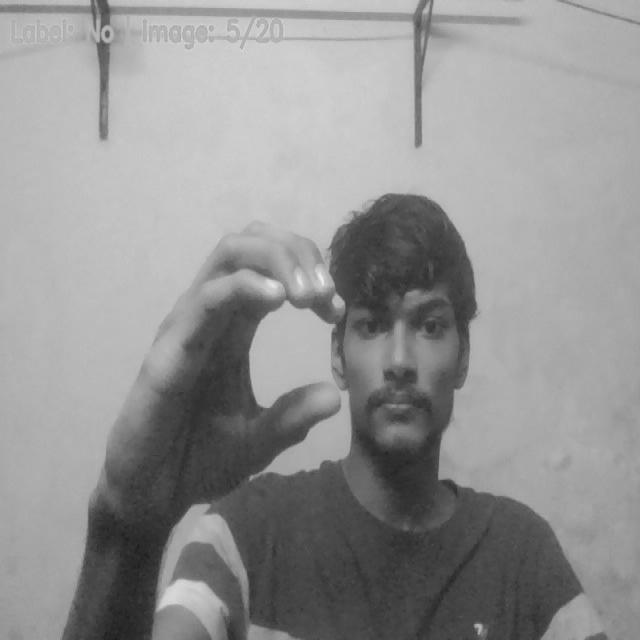No: (123, 223, 350, 514)
